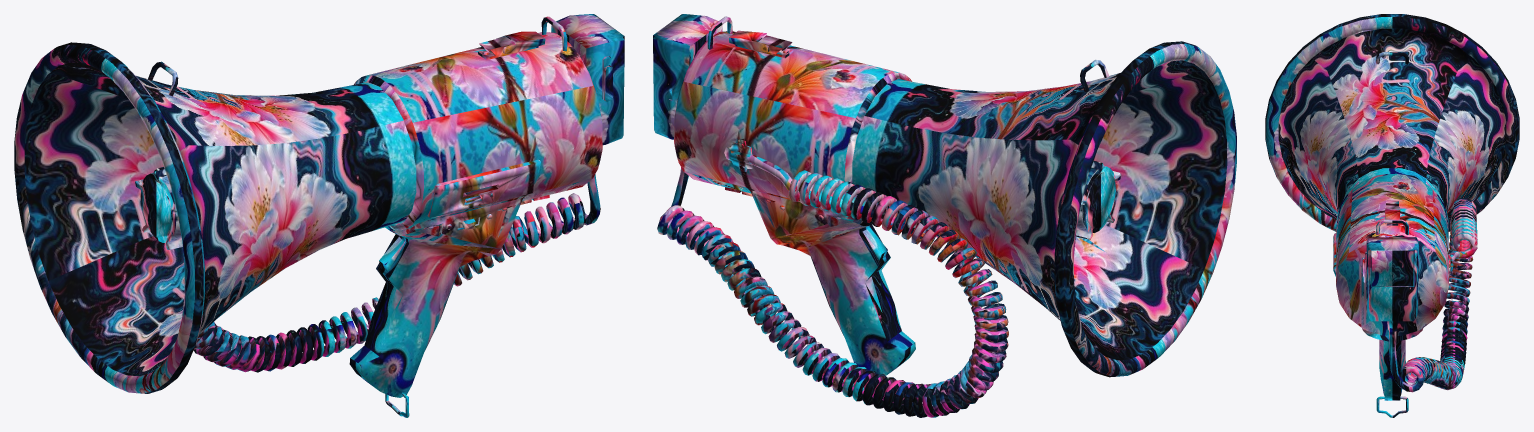
File: ph_Megaphone_01.glb
The picture shows the model from 3 angles, left to right: view 1: azimuth 30°, elevation 25°; view 2: azimuth 150°, elevation 25°; view 3: azimuth 270°, elevation 25°; orthographic projection. The views are drawn at different scales.
Visible parts, largest first — view 1: A; view 2: A; view 3: A.
Boxes of the visible parts, x1,y1,x2,y2 form: A: (14, 14, 624, 417); A: (653, 14, 1236, 417); A: (1265, 14, 1519, 417).
Size of the model in its own units: 2 by 1.62 by 1.23.
1 material, 1 textured.
